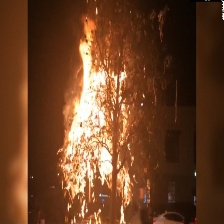fire: (63, 16, 133, 224)
